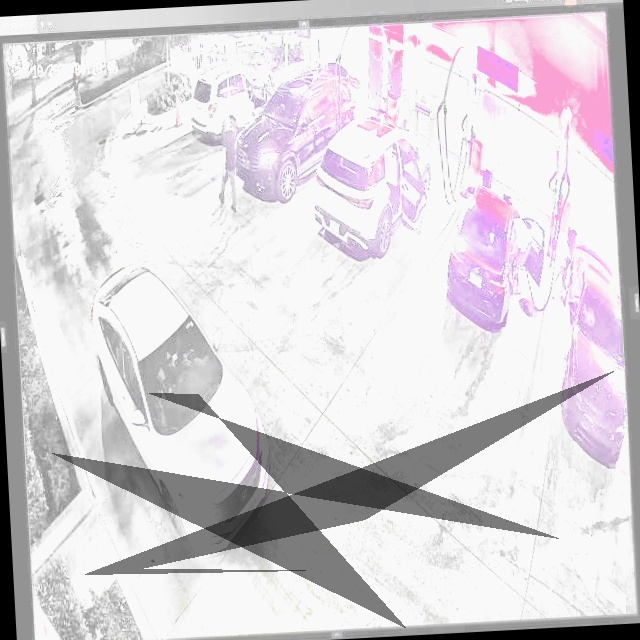Car: (90, 255, 276, 564), (310, 112, 442, 258), (229, 62, 363, 204), (443, 182, 548, 333), (184, 58, 292, 148)
